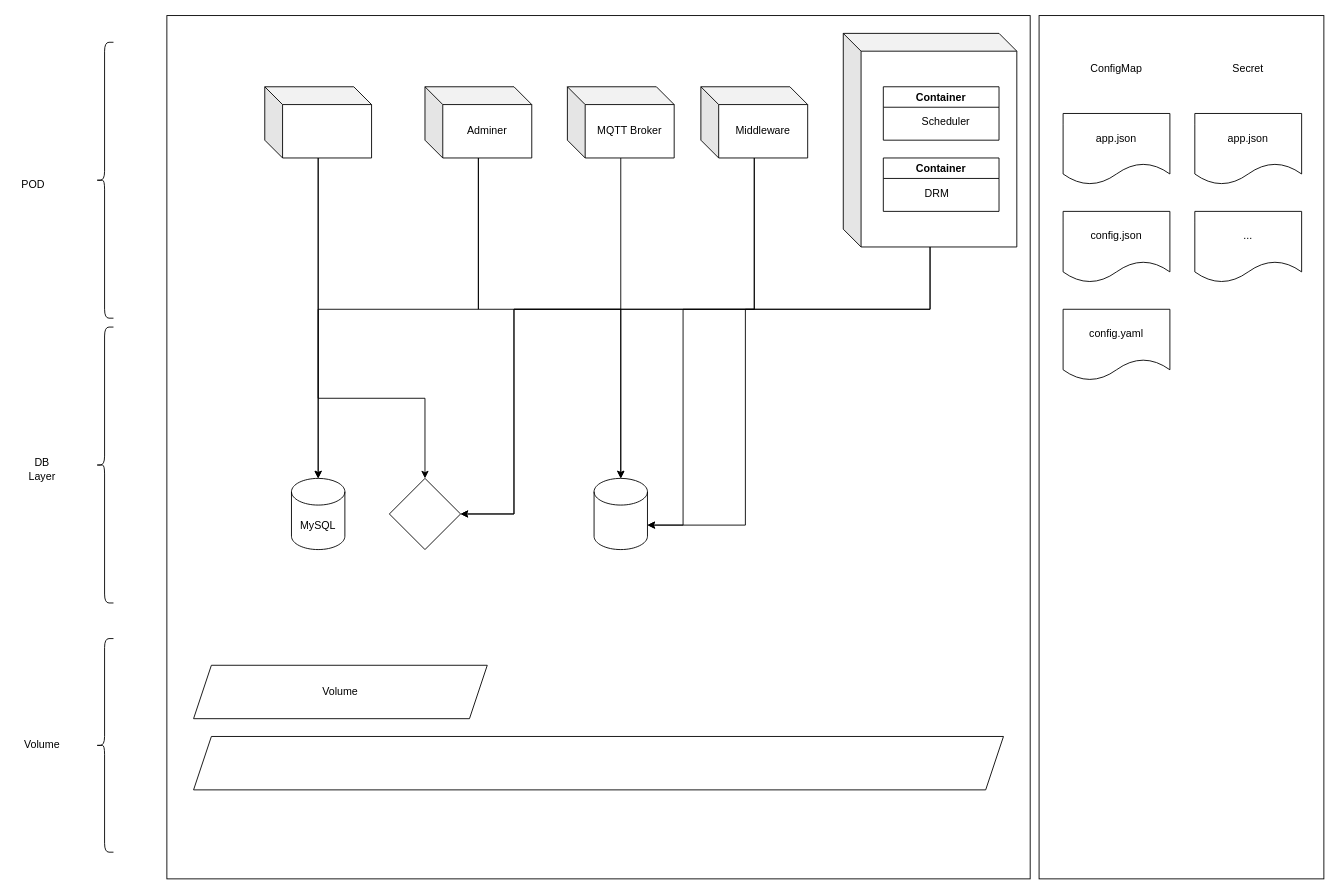
Some shapes in this 1339 by 894 pixel diagram are drawn without their labels. Here are the shapes that lost their labels. From the top down, the centre of each, then its label:
pixel 318 122: APP
pixel 424 513: Rrdis
pixel 620 513: PG
pixel 598 763: PVC
